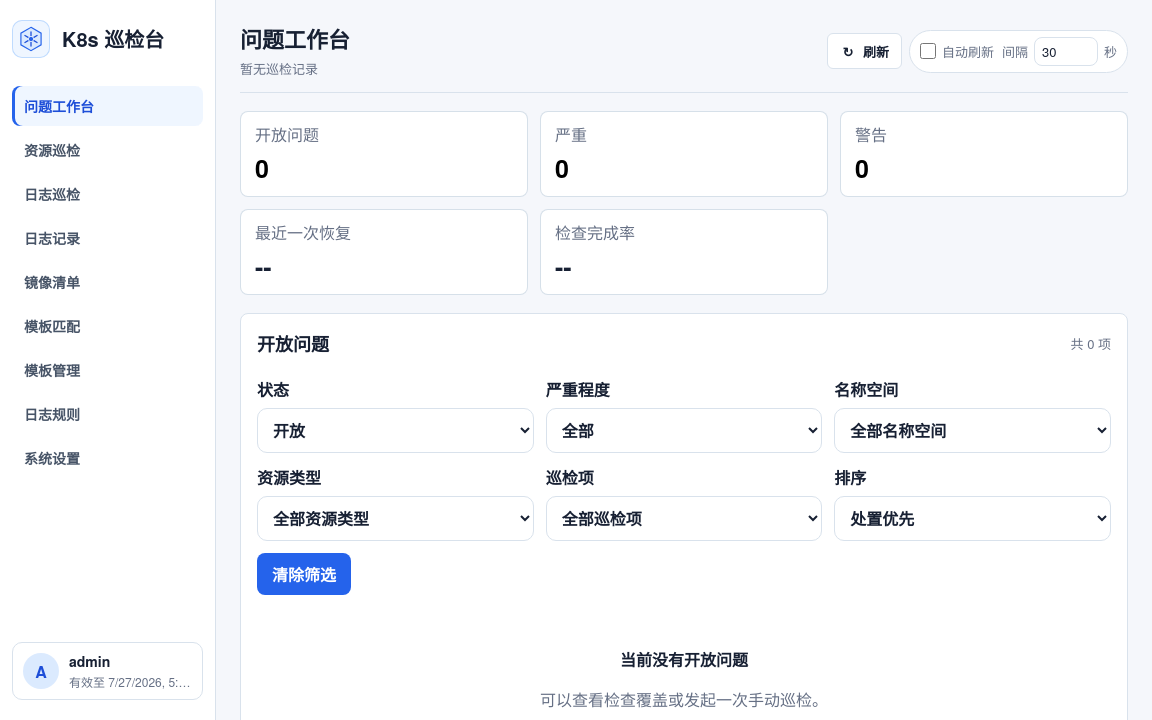
Test: App › changes password from the sidebar with csrf protection
Click the button "A admin 有效至 7/27/2026, 5:00:00 AM": (108, 671) [12, 642, 203, 700]
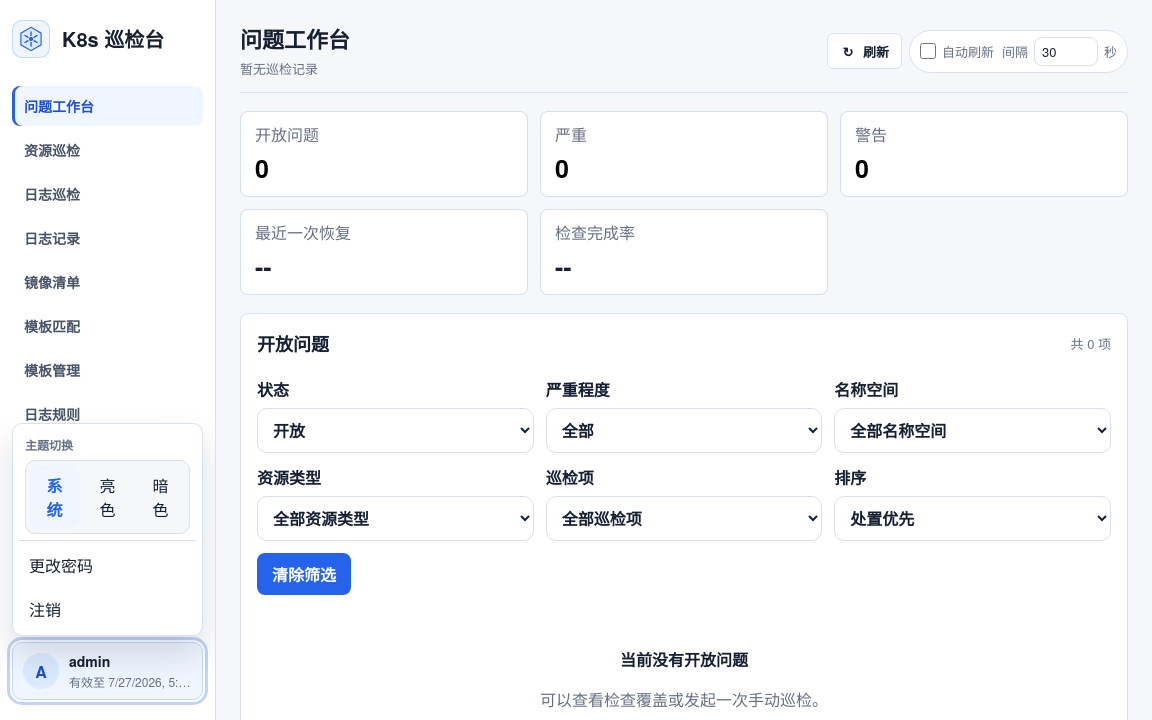
Click the menu item "更改密码": (108, 565) [19, 545, 196, 585]
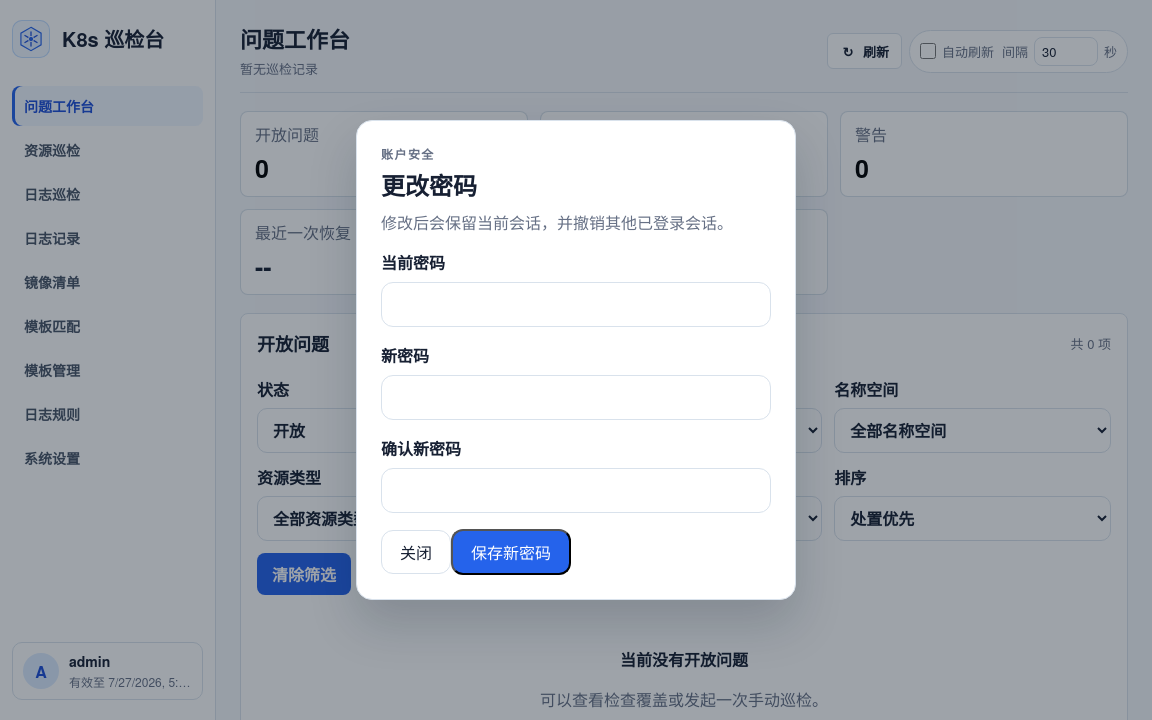
In the password field labelled "当前密码": (576, 304) [381, 282, 771, 327], type "old-password"
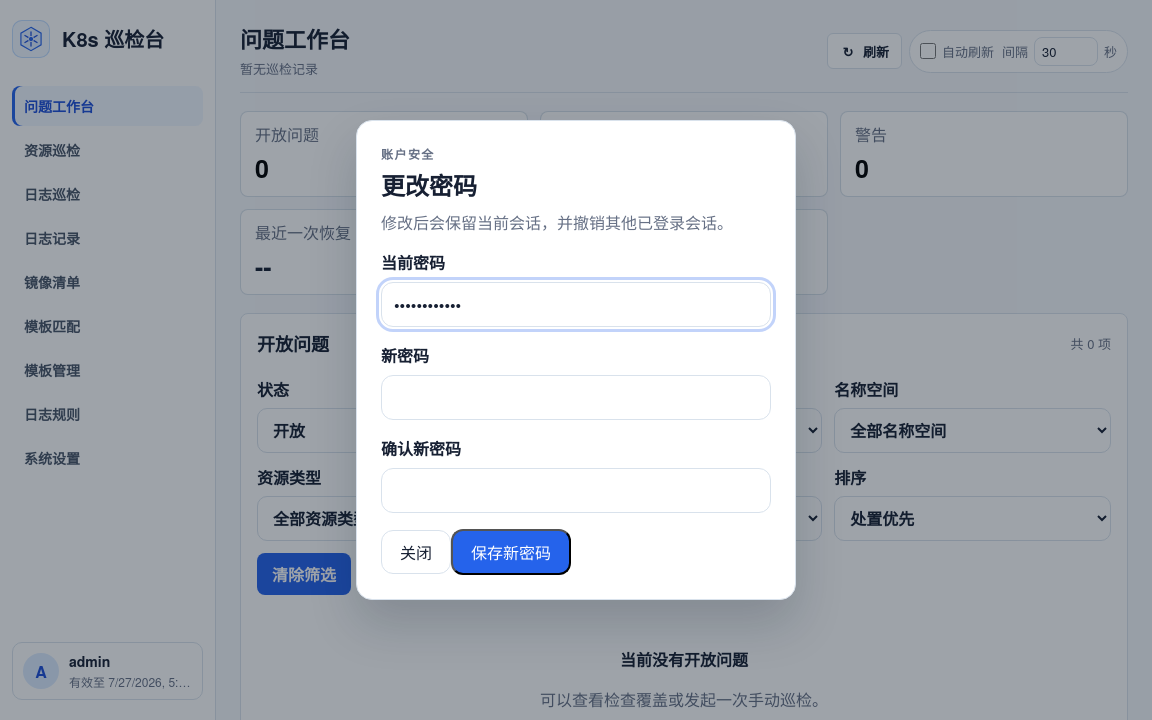
In the password field labelled "新密码": (576, 398) [381, 375, 771, 420], type "123456"
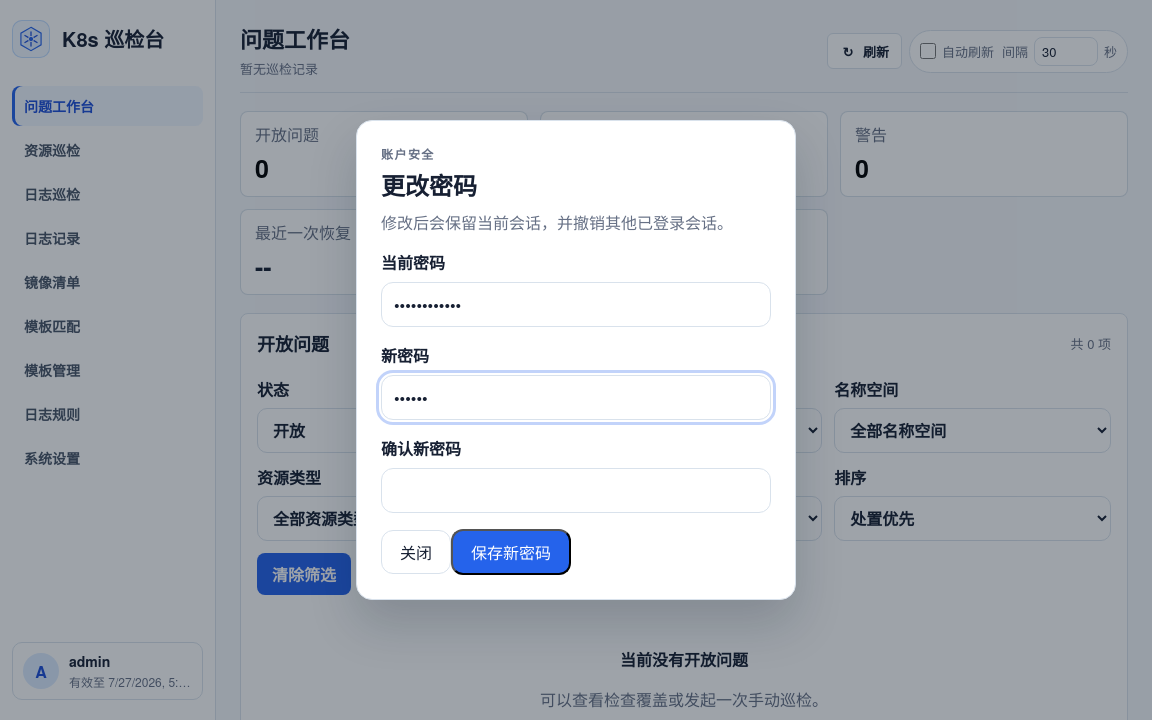
In the password field labelled "确认新密码": (576, 490) [381, 468, 771, 513], type "123456"
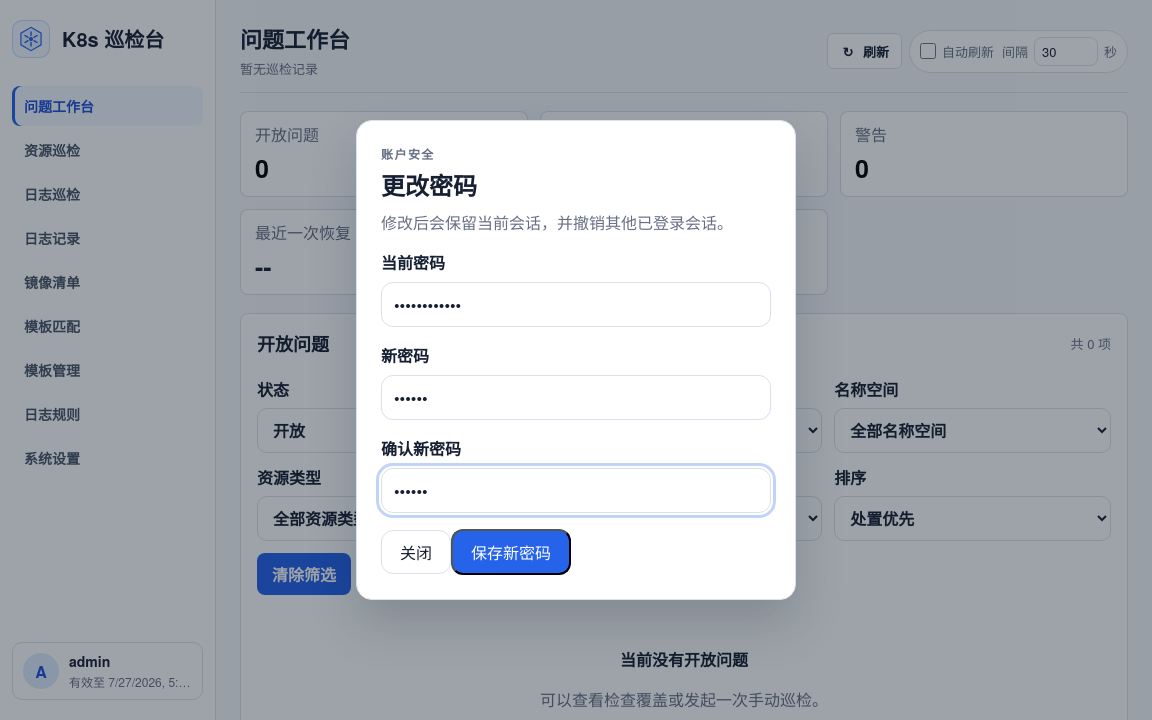
Click the button "保存新密码": (511, 552) [451, 529, 571, 575]
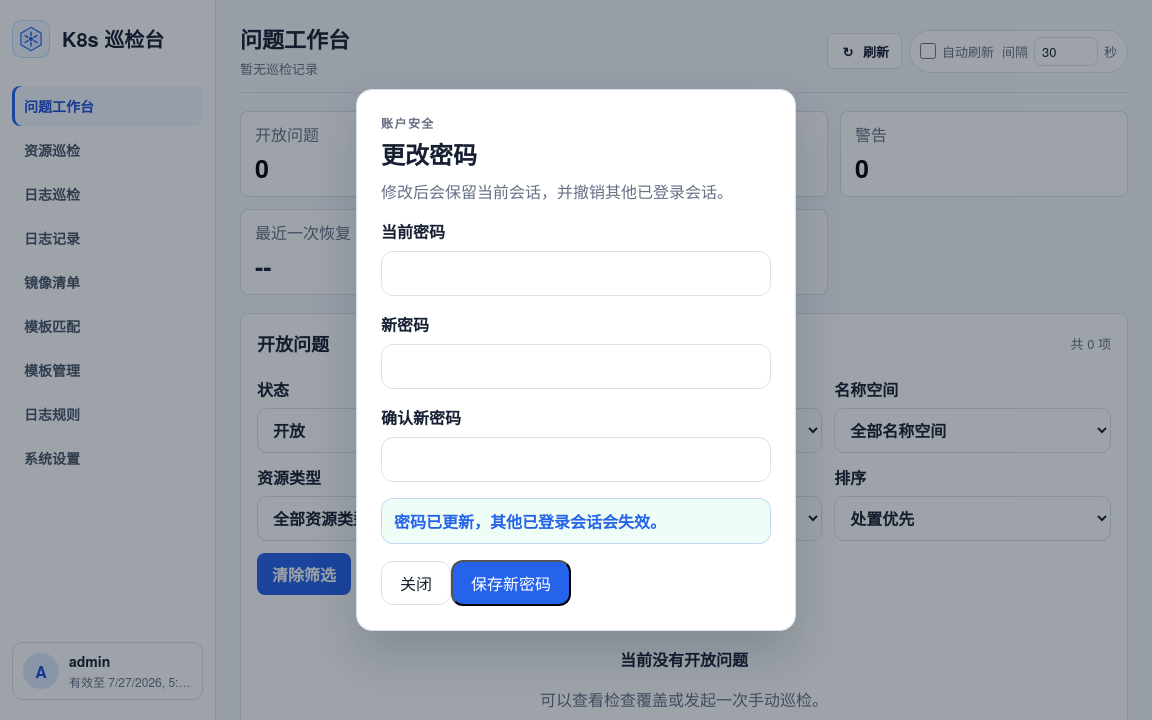
Expected: the text "密码已更新，其他已登录会话会失效。" is shown, [381, 498, 771, 544]
